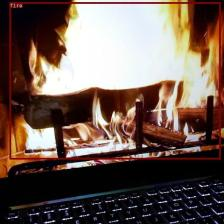fire: (9, 2, 220, 159)
